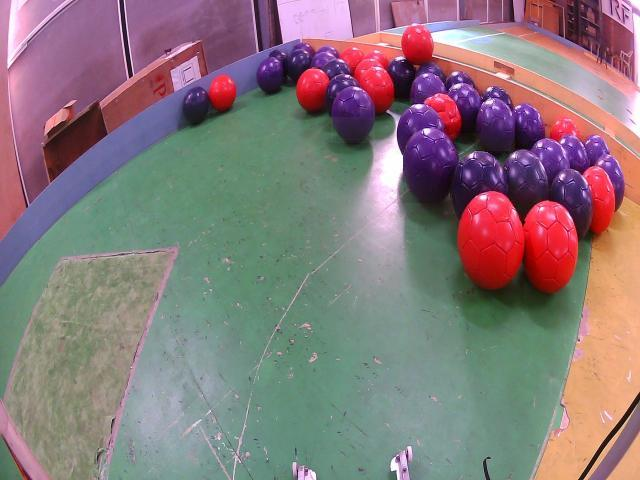jambhalya: (404, 129, 458, 203), (396, 103, 445, 155), (331, 87, 375, 143), (476, 100, 515, 156), (531, 138, 570, 185), (595, 154, 625, 209), (449, 84, 481, 133), (514, 103, 544, 151), (559, 135, 589, 173), (411, 74, 447, 103), (256, 59, 284, 93), (585, 135, 610, 165), (310, 52, 335, 68), (293, 41, 315, 56), (316, 45, 340, 58)
kaalyya: (451, 151, 509, 217), (504, 150, 549, 221), (550, 168, 592, 240), (325, 73, 360, 117), (387, 57, 415, 98), (183, 87, 210, 123), (288, 48, 312, 82), (481, 87, 514, 109), (323, 58, 352, 80), (417, 62, 447, 83), (446, 70, 477, 90), (270, 50, 288, 77)
